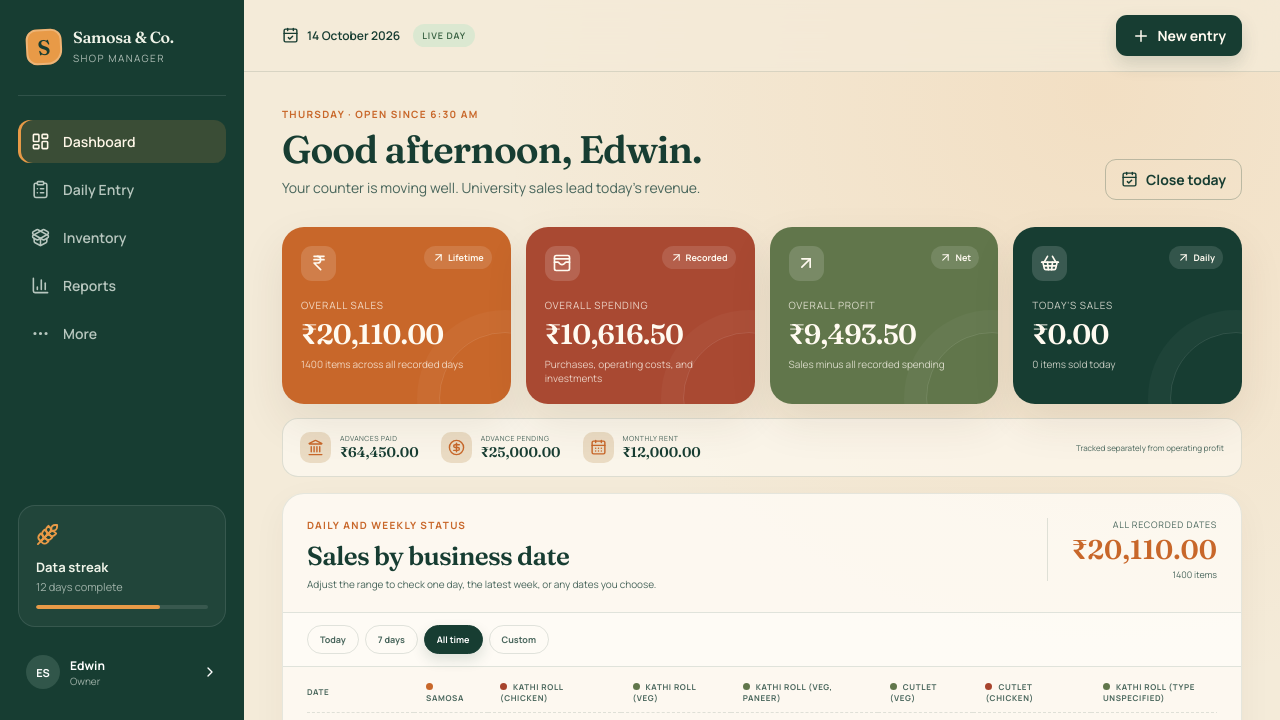
Test: ShopApp › shows a dated notification after a vegetable bill is marked pending
Click the button "Inventory".
click(122, 238)  # box [18, 216, 226, 259]
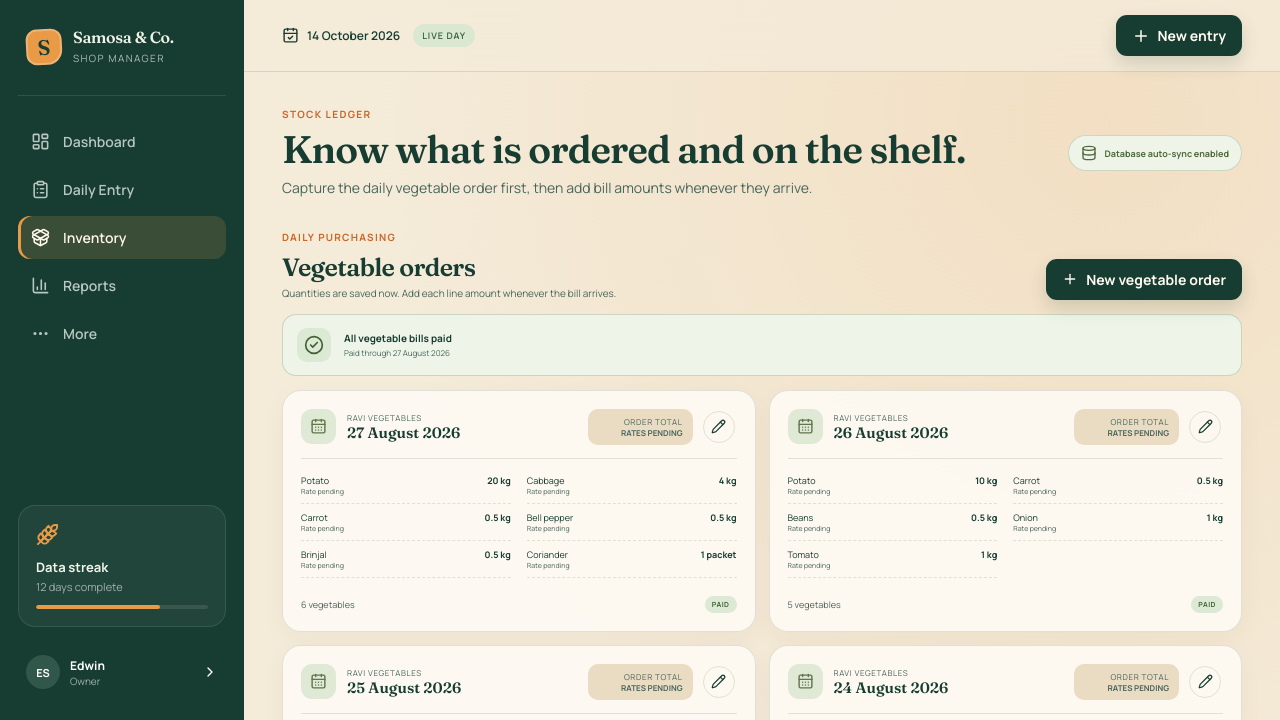
Click the button named "Edit vegetable order 2026-08-27".
click(718, 427)  # box [702, 411, 734, 443]
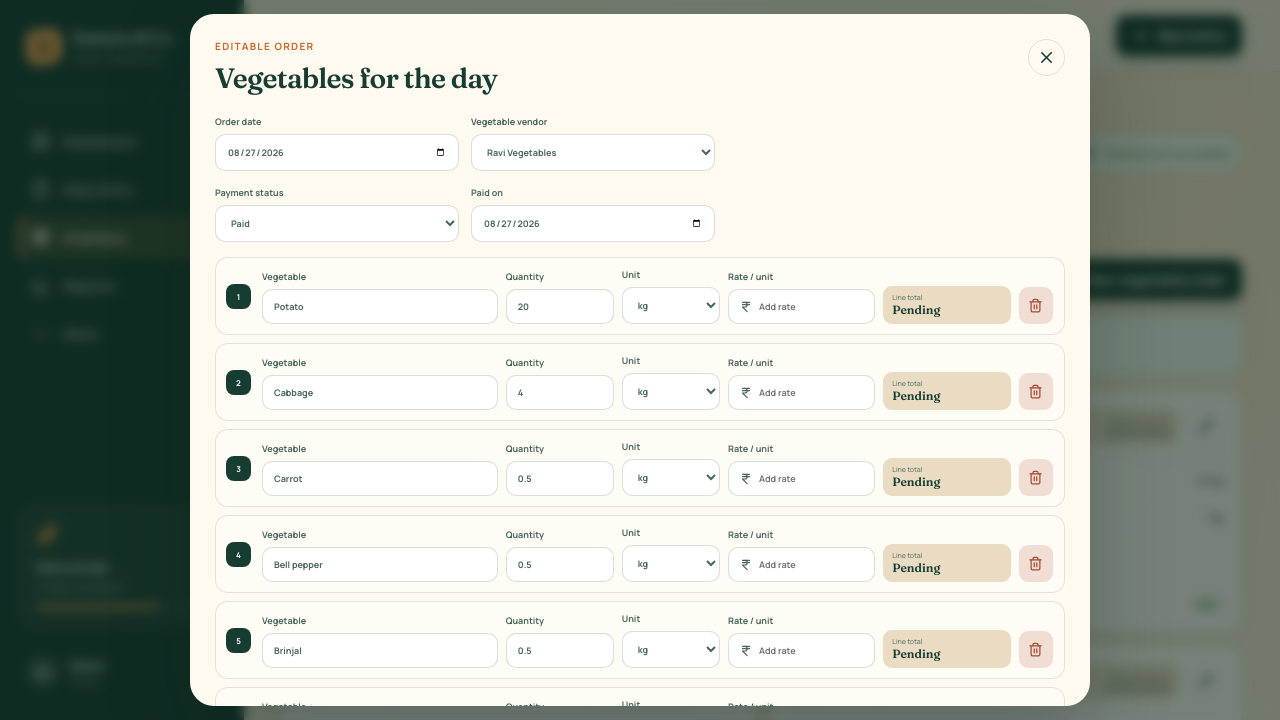
Select "Pending" in the dropdown labelled "Payment status" at x=337, y=224, box [215, 205, 459, 242]
(page scrolled)
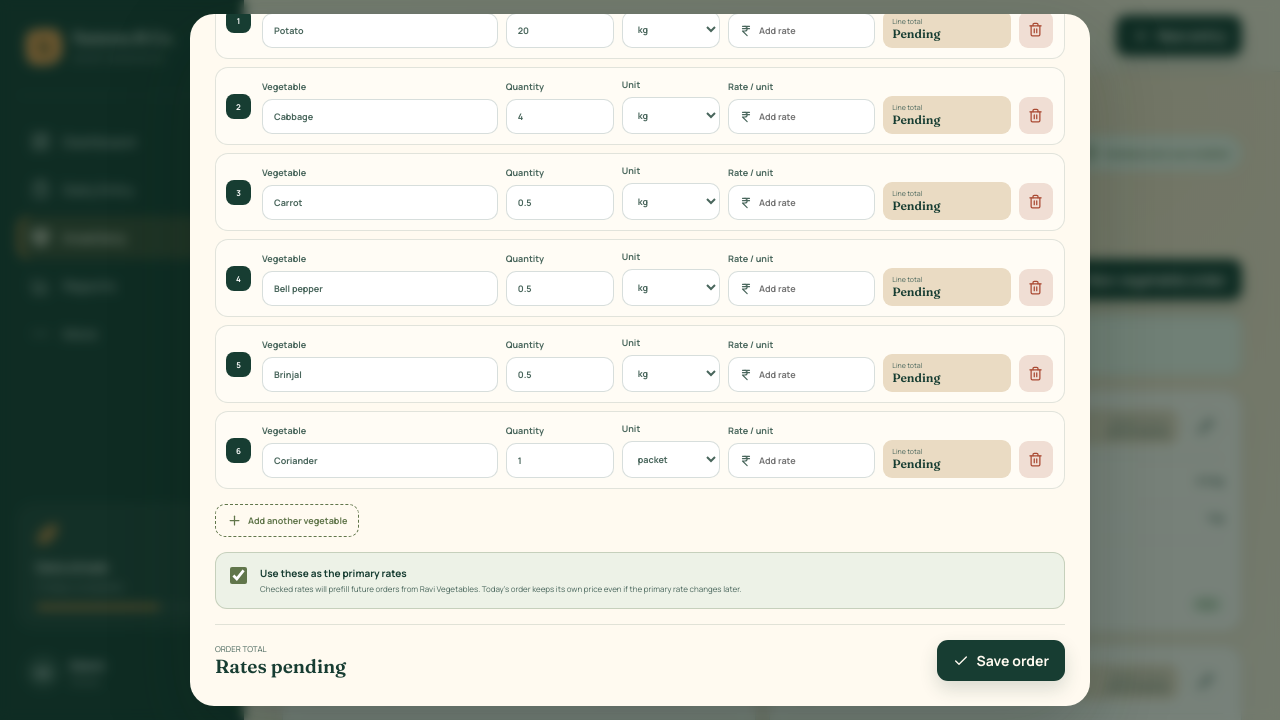
Expected: the label labelled "Paid on" is gone
Click the button "Save order".
click(1001, 660)  # box [937, 640, 1065, 681]
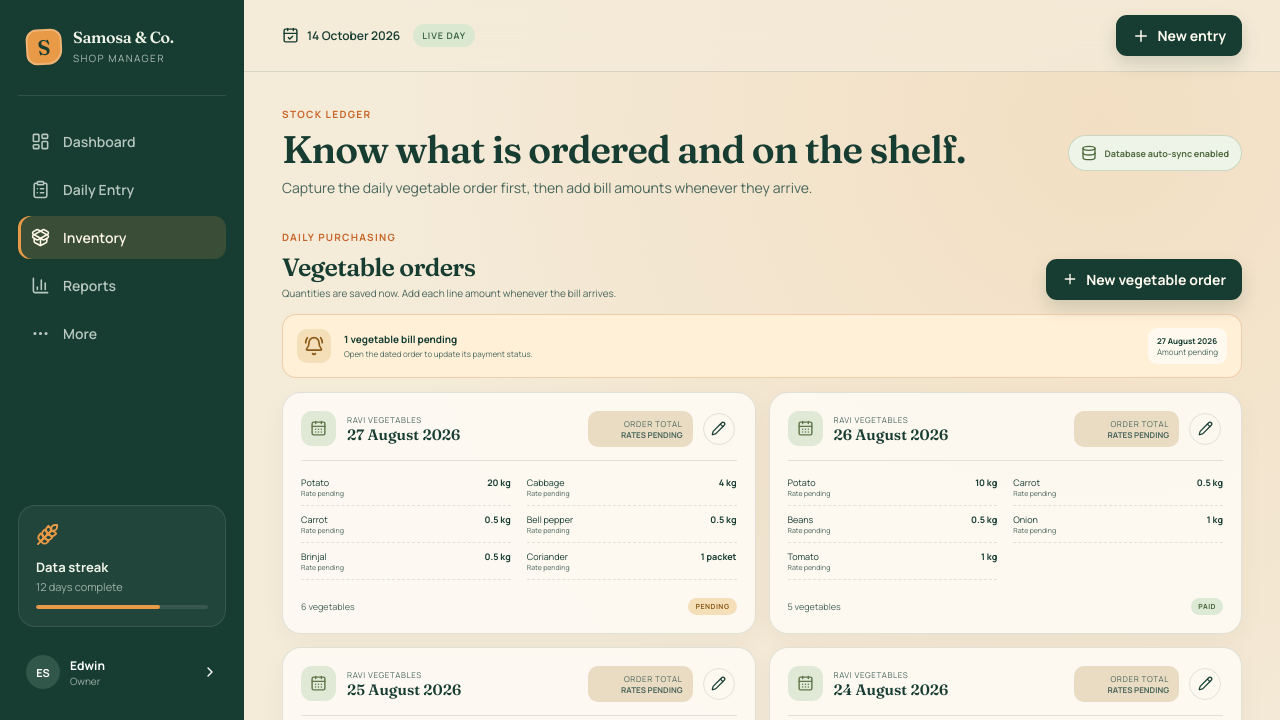
Expected: the message shows "27 August 2026", [1157, 335, 1217, 346]
Expected: the message shows "1 vegetable bill pending", [344, 332, 457, 346]
